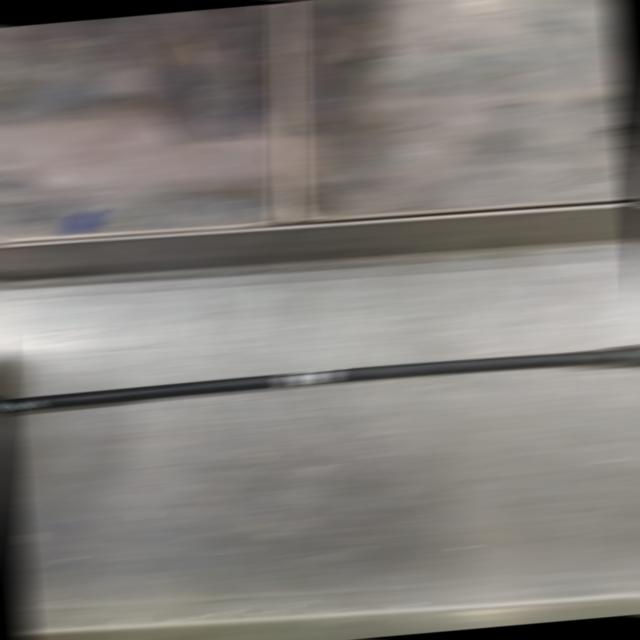white: (280, 368, 338, 386)
